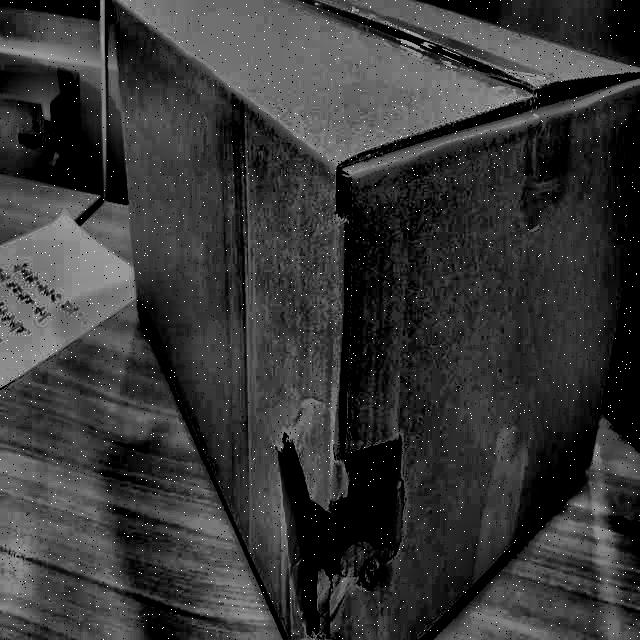box: (99, 0, 640, 639)
hole: (271, 412, 414, 640)
